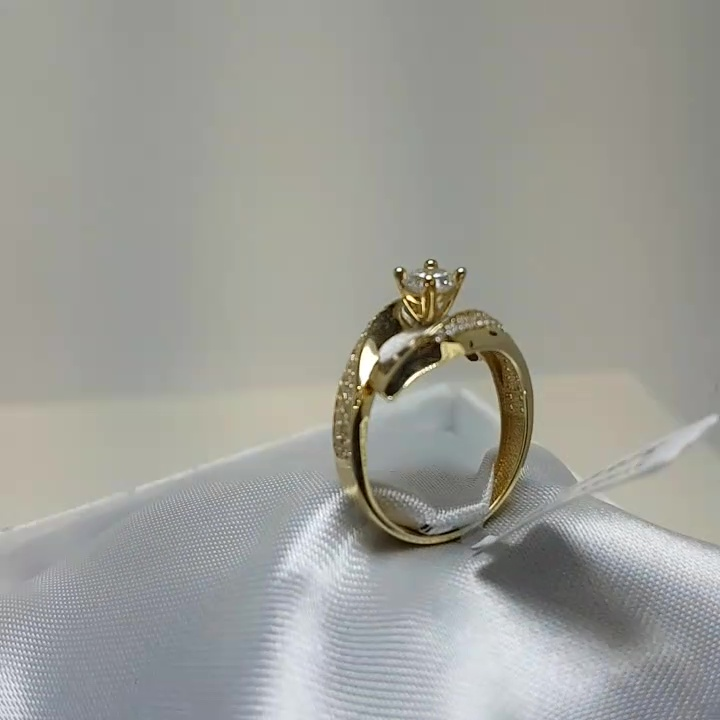Ring 6: (321, 248, 550, 566)
